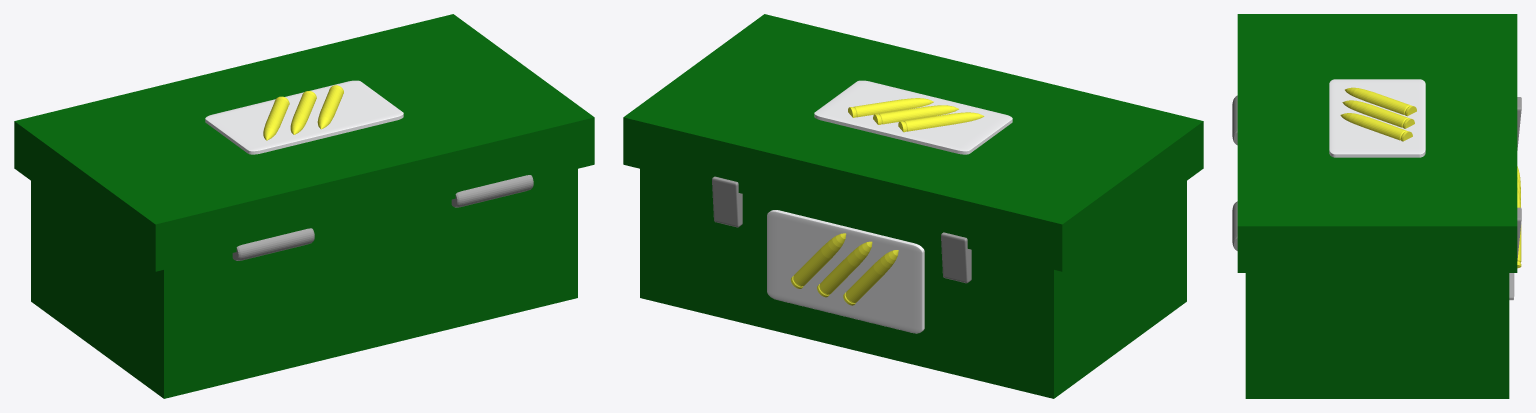
File: ammo.box1.fbx
The picture shows the model from 3 angles, left to right: view 1: azimuth 30°, elevation 25°; view 2: azimuth 150°, elevation 25°; view 3: azimuth 270°, elevation 25°; orthographic projection.
Visible parts, largest first — view 1: Cube.001, Cube, Куб, Цилиндр.002, Цилиндр.001, Цилиндр; view 2: Cube.001, Cube, Куб.003, Куб, Цилиндр.003, Цилиндр.002, Куб.001, Куб.002; view 3: Cube.001, Cube, Куб, Цилиндр.002, Цилиндр.003, Цилиндр, Цилиндр.001.
Boxes of the visible parts, box(x1,y1,x2,y2) form: Cube.001: box(14, 14, 594, 271); Cube: box(31, 169, 577, 398); Куб: box(205, 80, 403, 154); Цилиндр.002: box(263, 85, 343, 140); Цилиндр.001: box(232, 228, 314, 260); Цилиндр: box(451, 175, 533, 207); Cube.001: box(623, 14, 1203, 271); Cube: box(640, 169, 1186, 398); Куб.003: box(767, 210, 924, 333); Куб: box(814, 80, 1012, 154); Цилиндр.003: box(790, 233, 898, 305); Цилиндр.002: box(848, 98, 984, 132); Куб.001: box(941, 232, 971, 283); Куб.002: box(712, 176, 742, 227); Cube.001: box(1237, 14, 1517, 272); Cube: box(1245, 273, 1509, 398); Куб: box(1329, 79, 1425, 157); Цилиндр.002: box(1340, 87, 1416, 141); Цилиндр.003: box(1517, 166, 1521, 268); Цилиндр: box(1232, 201, 1237, 250); Цилиндр.001: box(1232, 95, 1237, 145).
Bounding box in the file's own units: 381 × 159 × 219.
